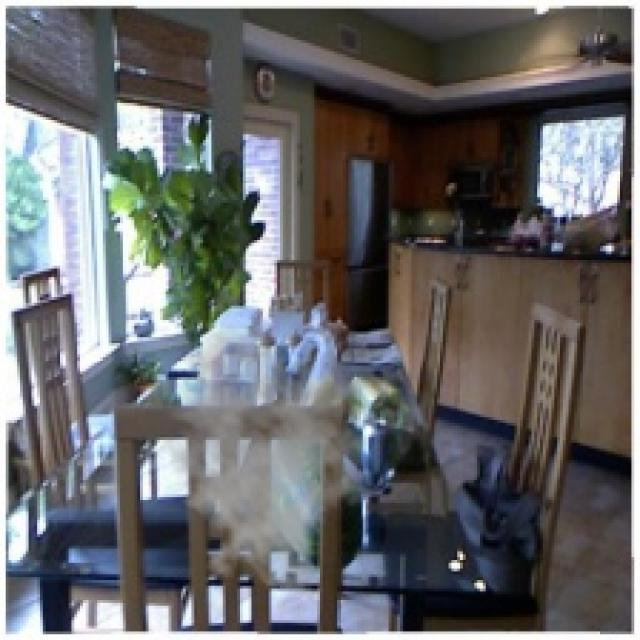smoke: (148, 326, 372, 597)
